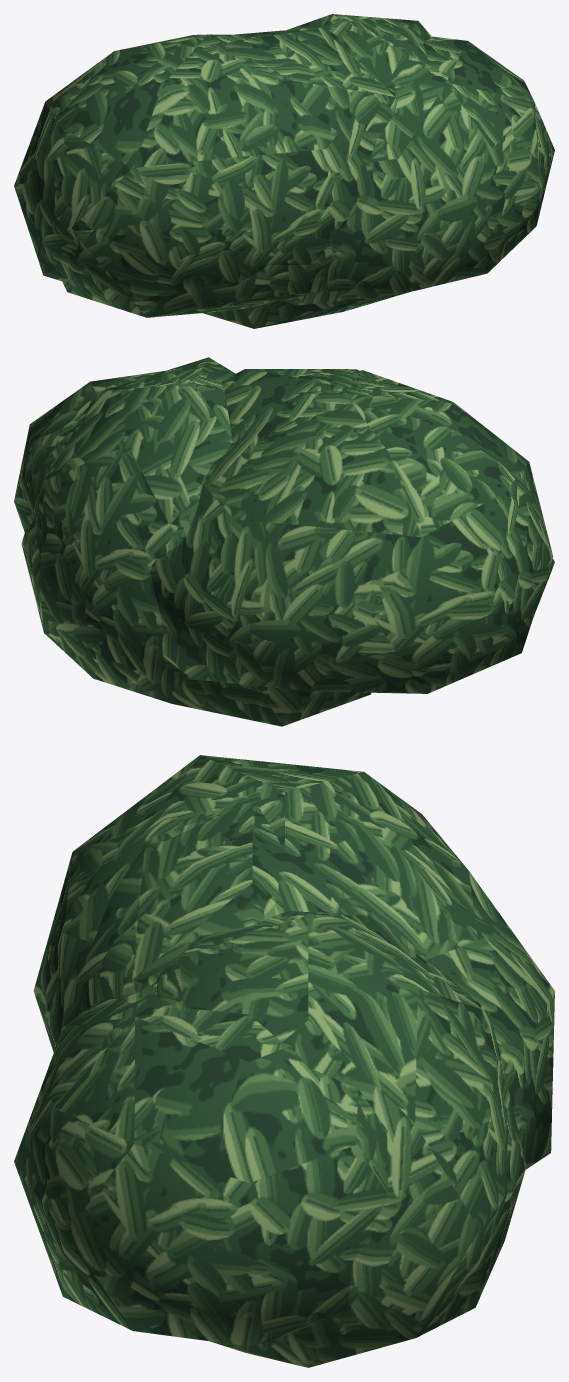
The model's file is bush_a.glb.
3 renders of one model, top to bottom at view 1: azimuth 30°, elevation 25°; view 2: azimuth 150°, elevation 25°; view 3: azimuth 270°, elevation 25°, orthographic. The views are drawn at different scales.
Visible parts, largest first — view 1: Bush; view 2: Bush; view 3: Bush.
Part boxes in pixels (<box>): Bush: <box>14,14,554,328</box>; Bush: <box>14,357,554,726</box>; Bush: <box>14,755,554,1367</box>.
Bounding box in the file's own units: 1.67 × 0.9406 × 1.08.
2 materials, 2 textured.
